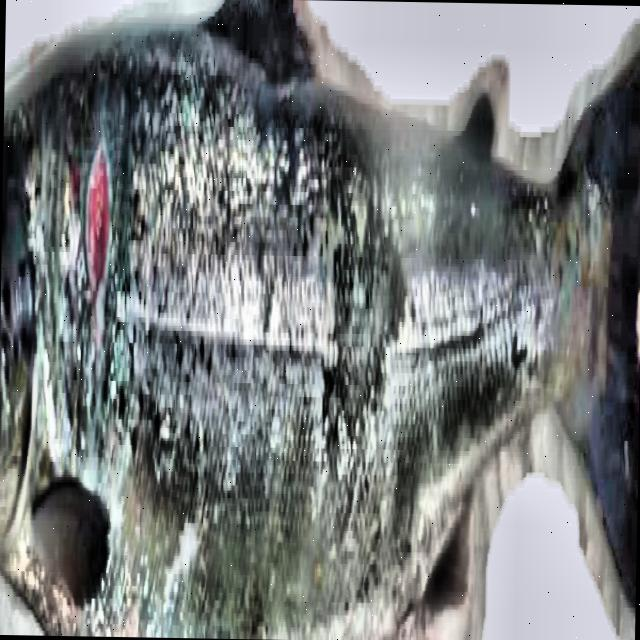mild_red: (3, 1, 607, 637)
wound: (83, 129, 115, 305)
